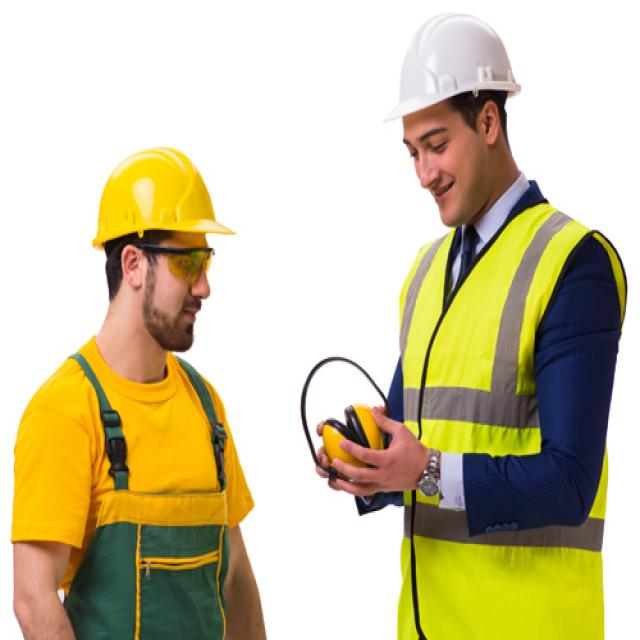Reflective-Jacket: (389, 197, 623, 633), (5, 337, 264, 630)
Safety-Helmet: (384, 10, 521, 129), (92, 144, 234, 255)
